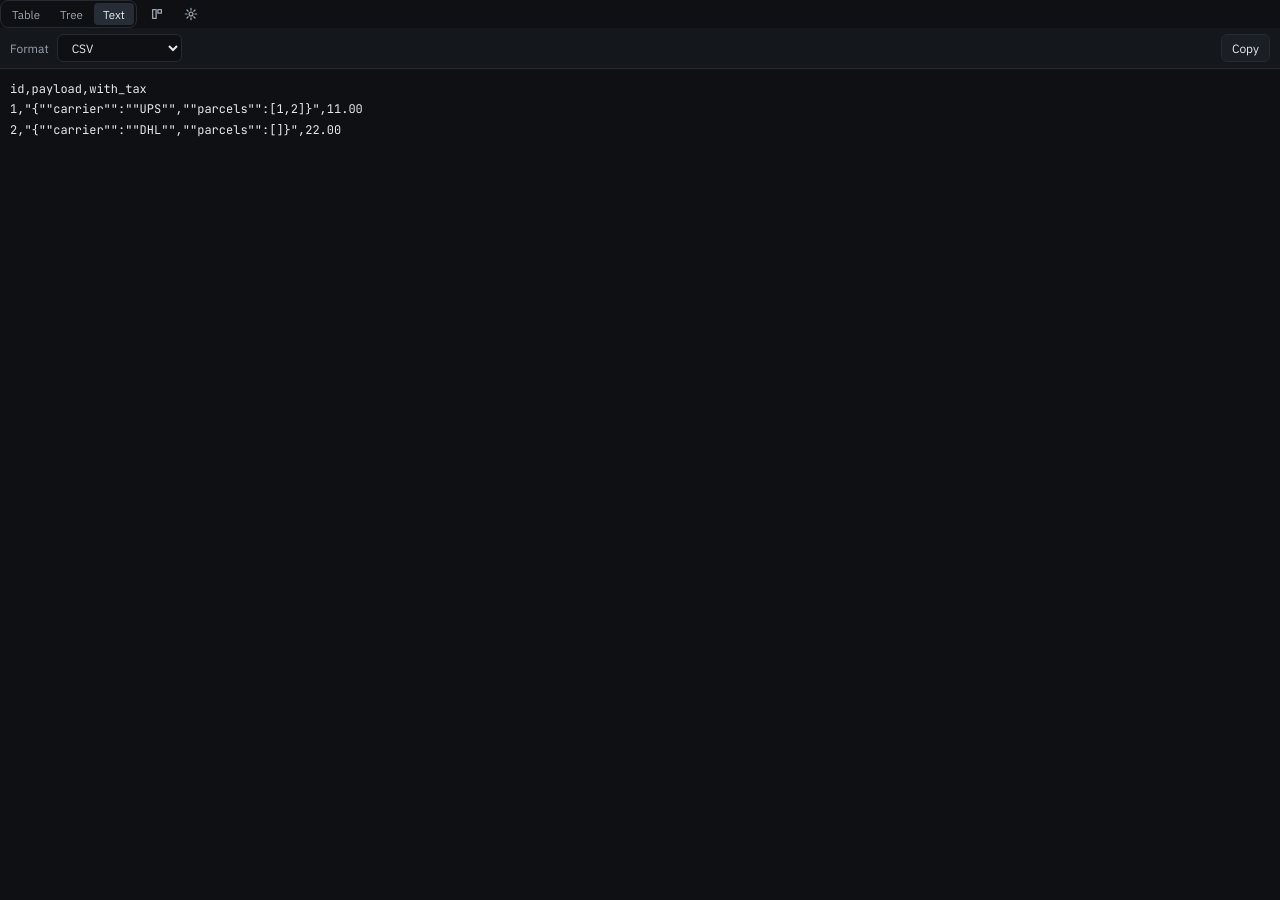
Test case: Extractor options dialog › skips computed columns and remembers options per format (spec: data-grid › Skip computed columns)
Click the button named "Extractor options" at (191, 14), box [177, 0, 205, 28]
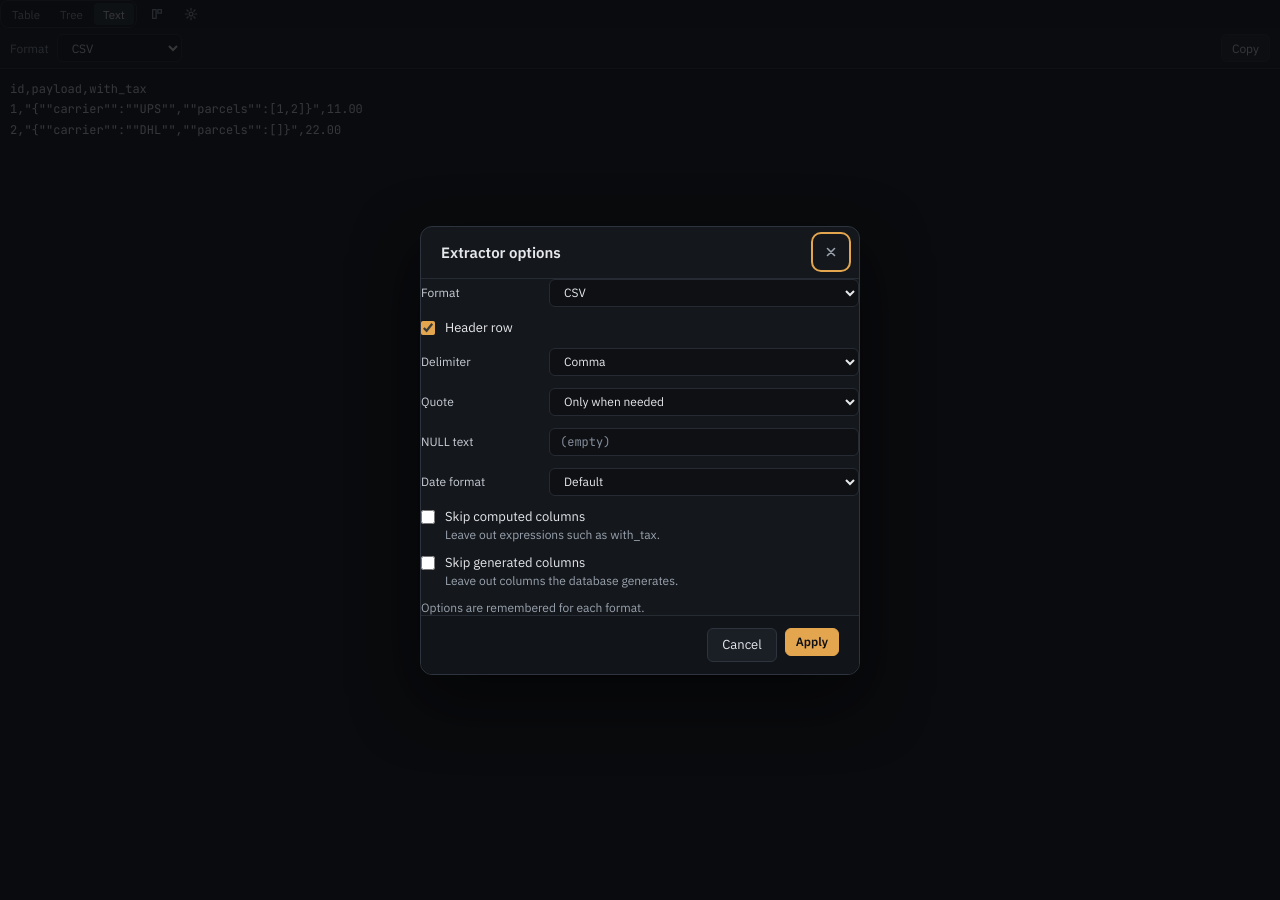
Select "SQL INSERT" in the dropdown labelled "Format" at (704, 292), box [549, 278, 859, 306]
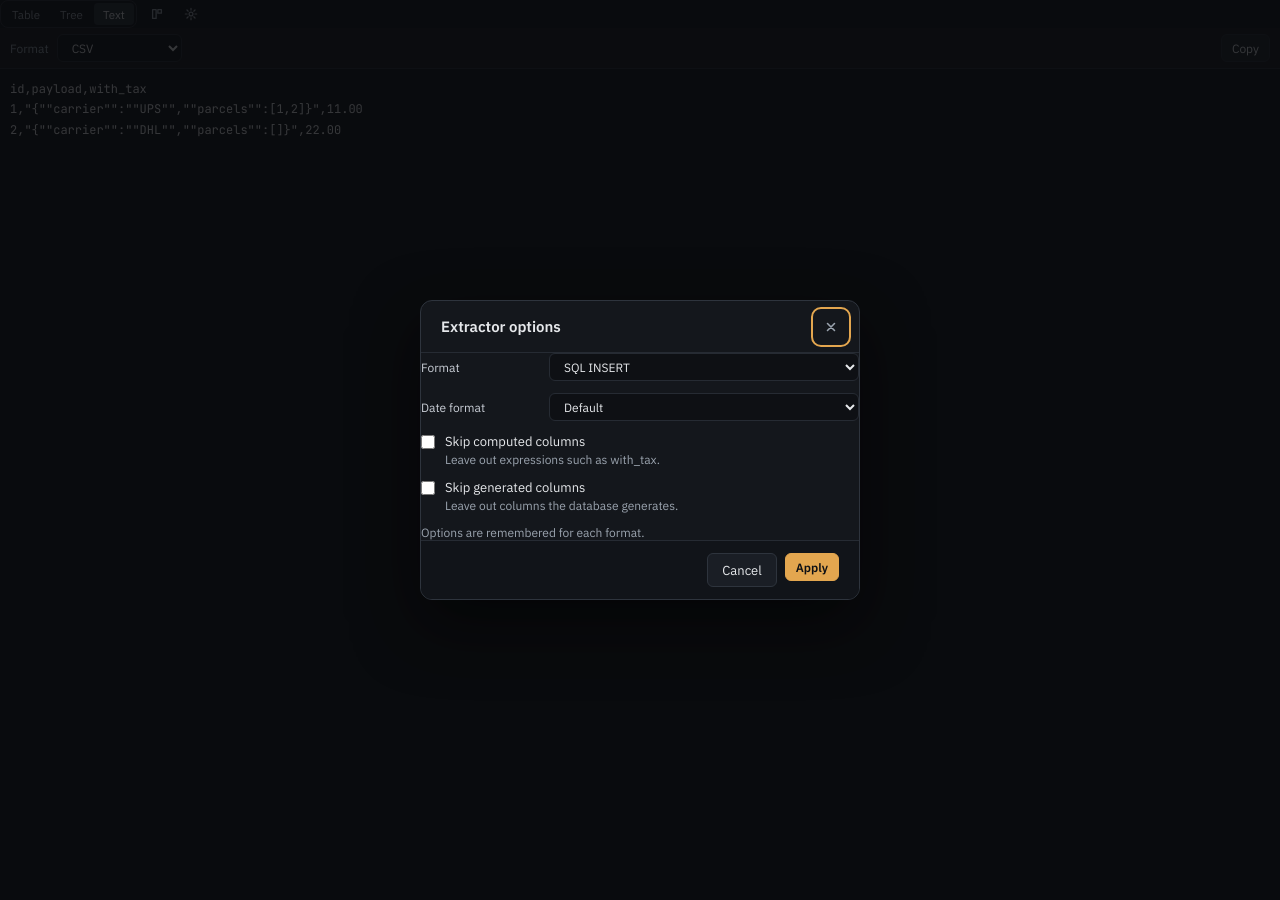
Click the checkbox labelled "Skip computed columns" at (428, 442), box [421, 435, 435, 449]
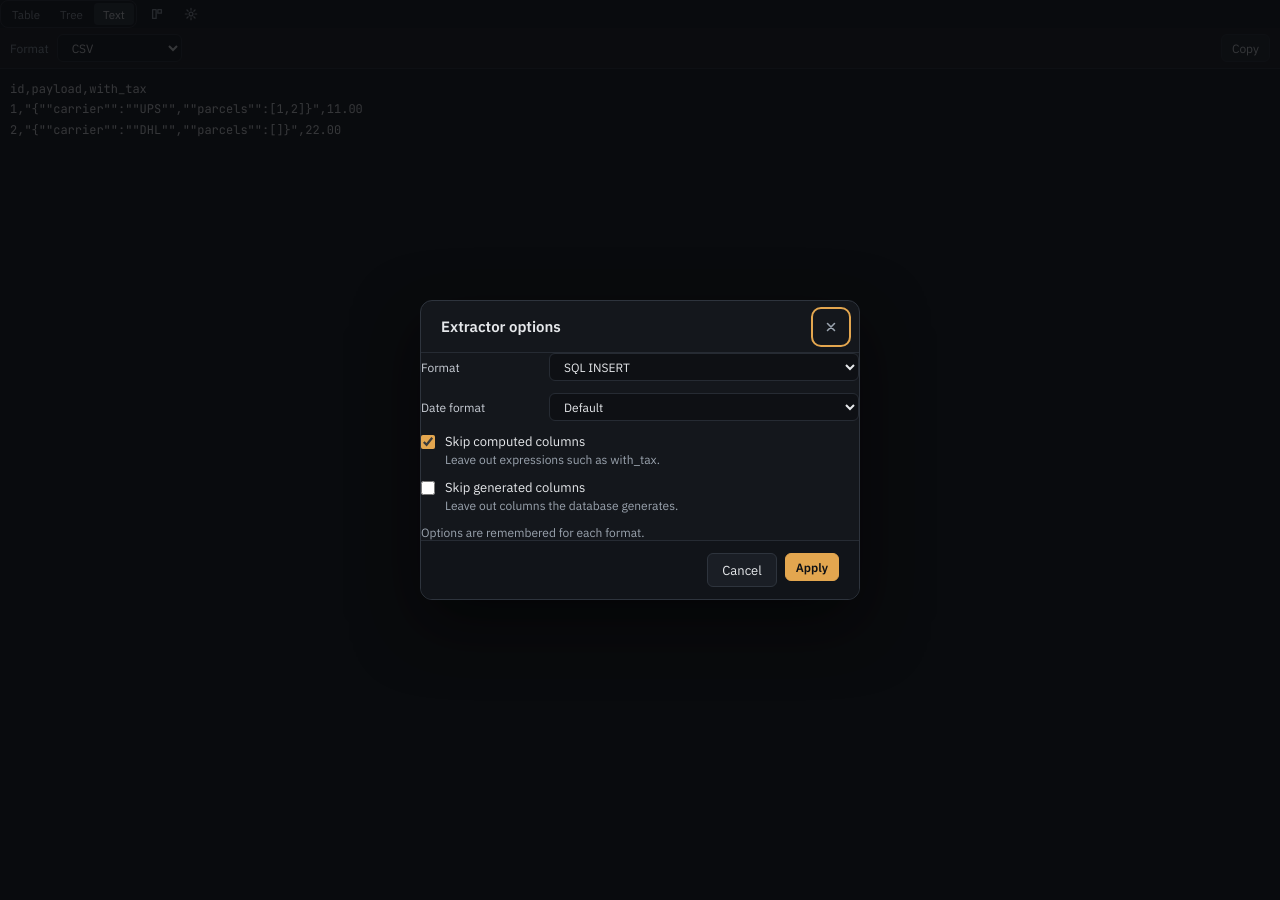
Click the button "Apply" at (812, 567), box [785, 553, 839, 581]
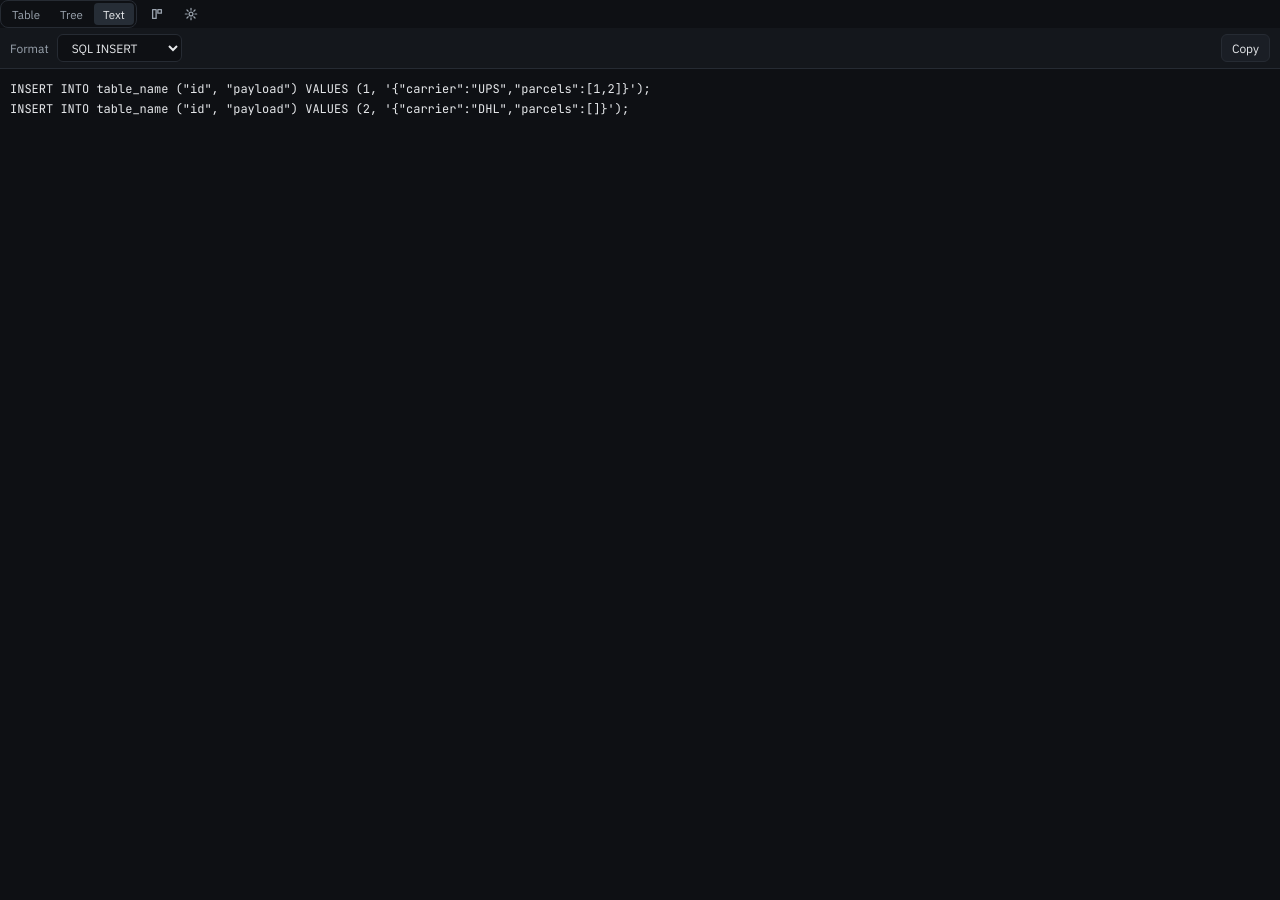
Now the field named "Result text" shows "INSERT INTO", box [10, 81, 651, 117]
Now the field labelled "Result text" no longer shows "with_tax"
CSV keeps its own options: with_tax is still there.
Select "CSV" in the dropdown labelled "Format" at (119, 48), box [57, 34, 182, 62]
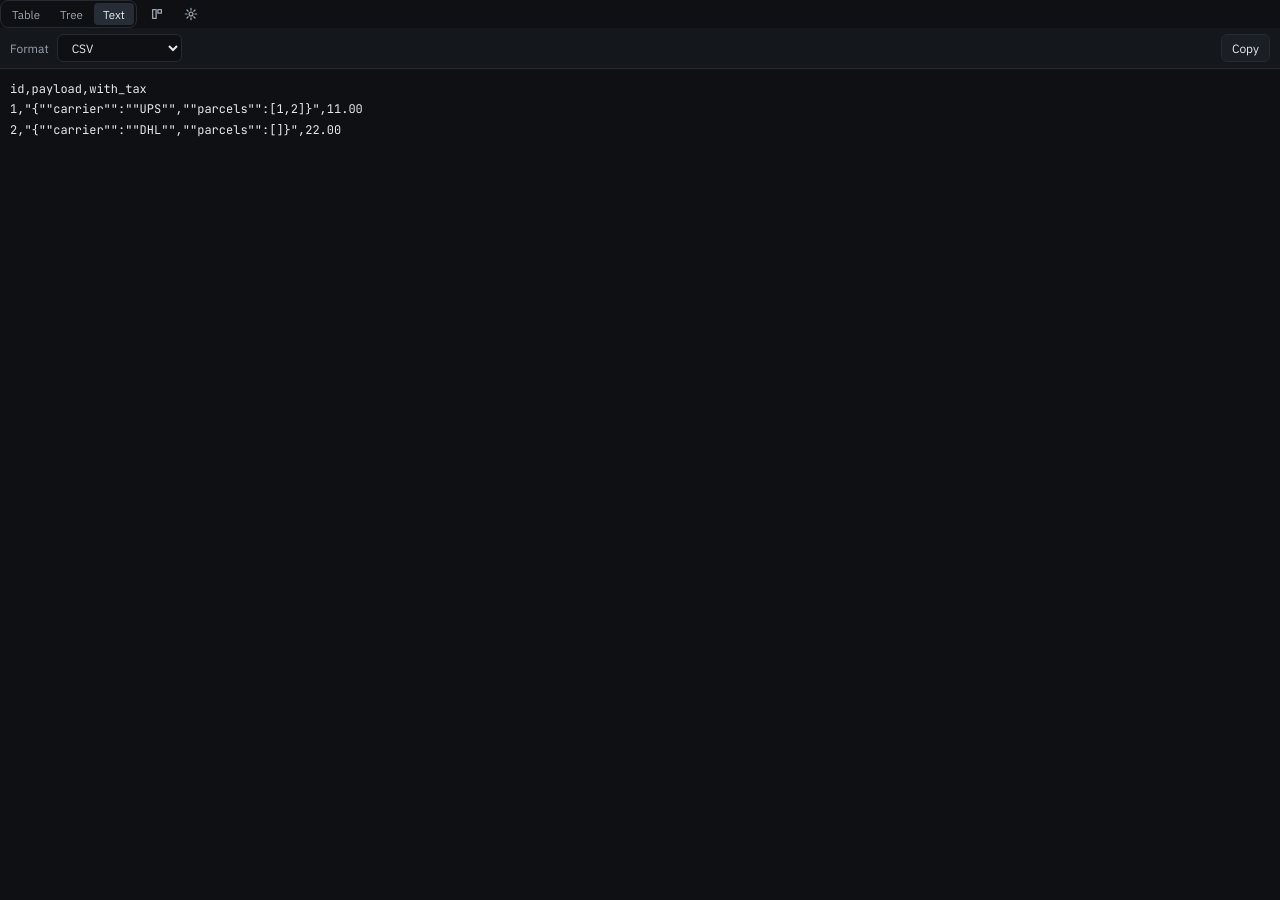
Now the field named "Result text" shows "with_tax", box [10, 81, 363, 138]
Select "SQL INSERT" in the dropdown labelled "Format" at (119, 48), box [57, 34, 182, 62]
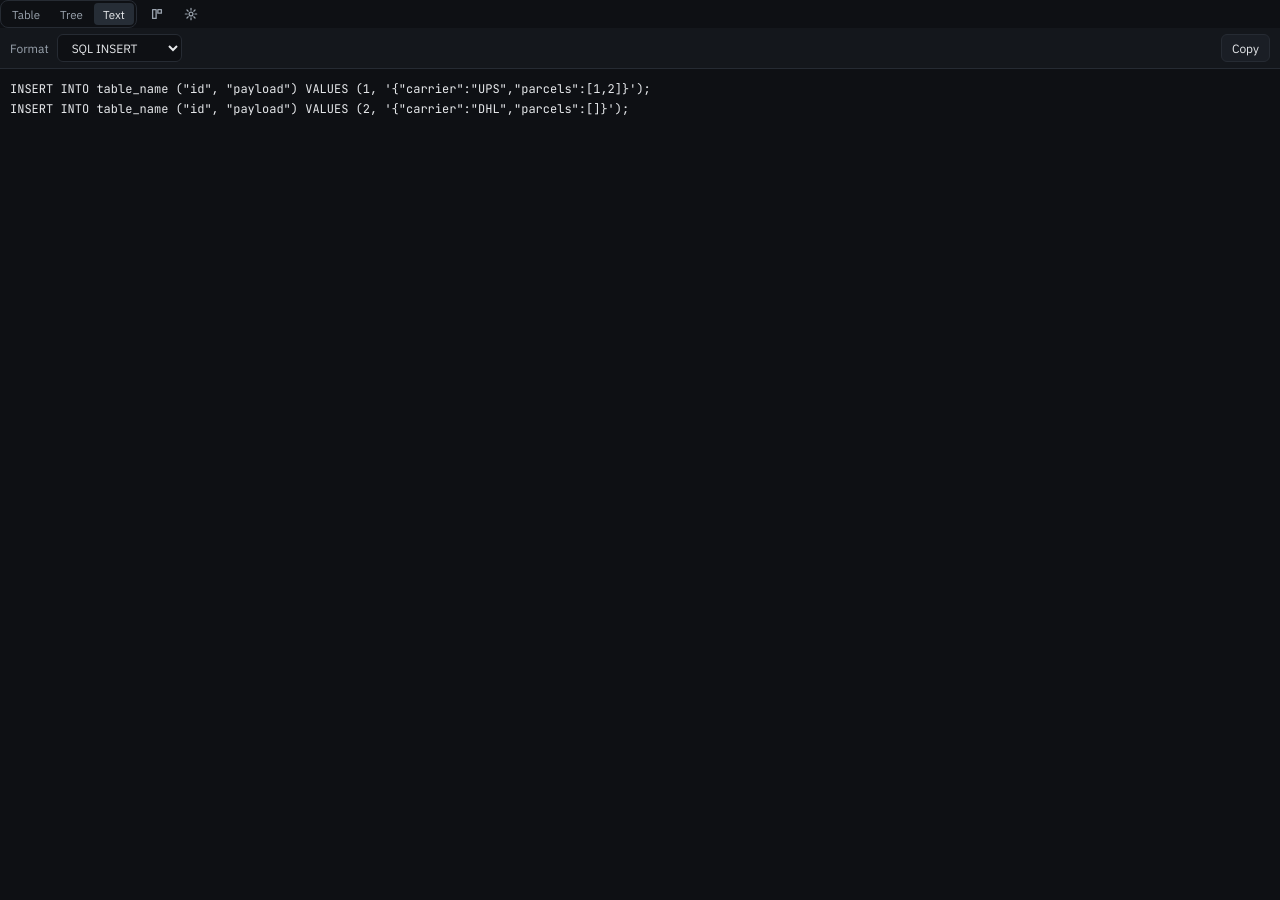
Now the field labelled "Result text" no longer shows "with_tax"
